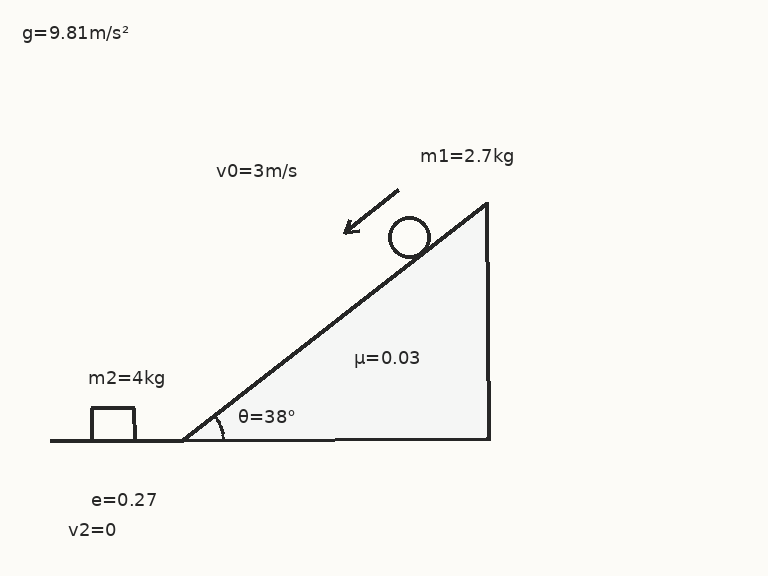ball: (386, 214, 432, 260)
block: (89, 406, 137, 442)
ramp: (181, 201, 488, 442)
